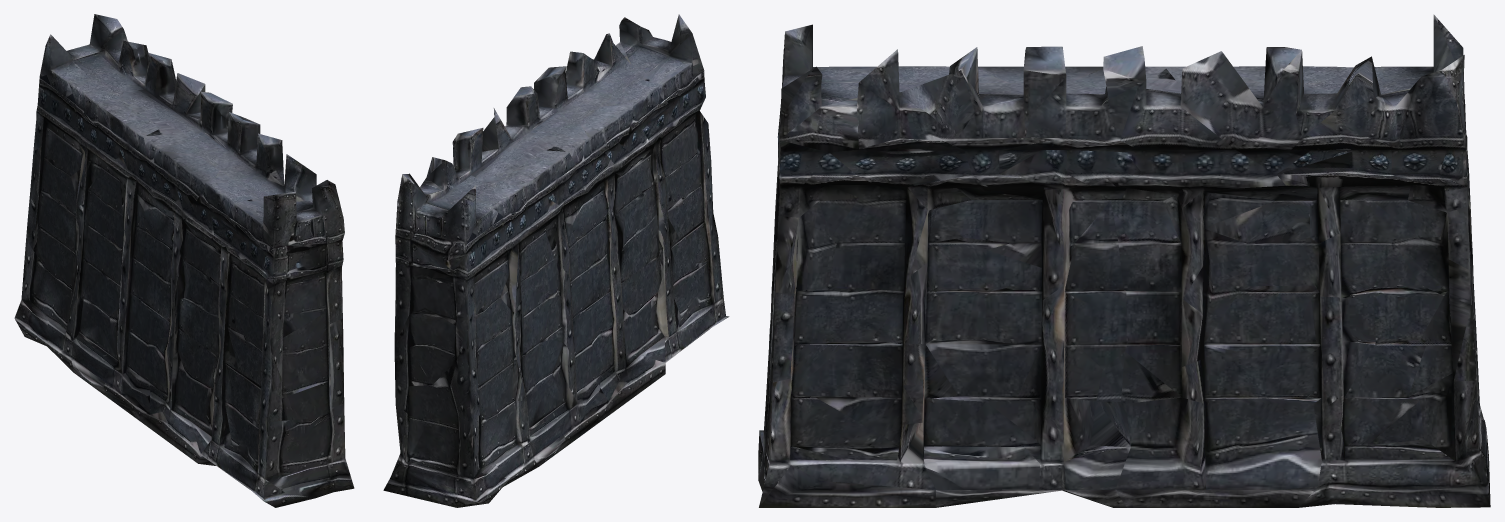
File: castle_wall_iron.glb
The picture shows the model from 3 angles, left to right: view 1: azimuth 30°, elevation 25°; view 2: azimuth 150°, elevation 25°; view 3: azimuth 270°, elevation 25°; orthographic projection. The views are drawn at different scales.
Parts seen in each view (by area): view 1: tripo_node_2973a393-3c60-4374-a208-72ececc9e4d1; view 2: tripo_node_2973a393-3c60-4374-a208-72ececc9e4d1; view 3: tripo_node_2973a393-3c60-4374-a208-72ececc9e4d1.
Boxes of the visible parts, left/top/right/bottom form: tripo_node_2973a393-3c60-4374-a208-72ececc9e4d1: left=14, top=14, right=354, bottom=507; tripo_node_2973a393-3c60-4374-a208-72ececc9e4d1: left=383, top=14, right=729, bottom=507; tripo_node_2973a393-3c60-4374-a208-72ececc9e4d1: left=758, top=14, right=1490, bottom=507.
Size of the model in its own units: 0.2058 by 0.6551 by 0.9735.
1 material, 1 textured.
